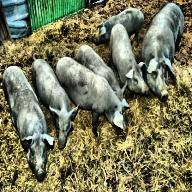boar: (2, 1, 184, 181)
